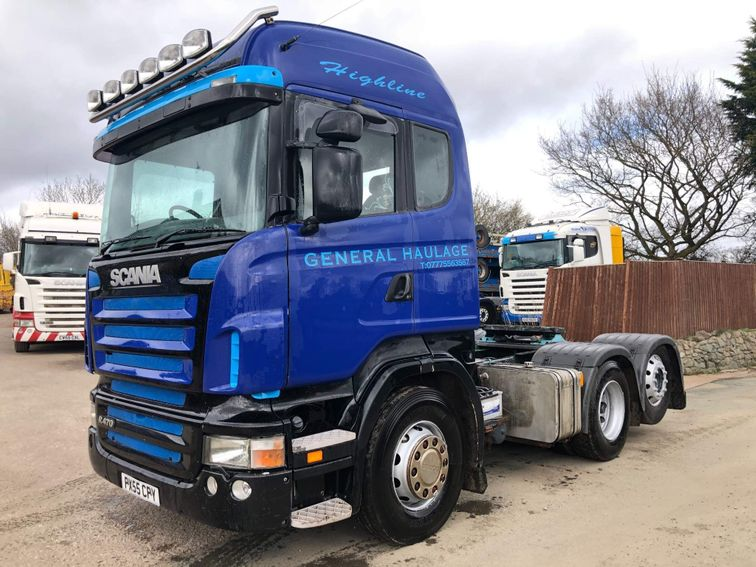Semi: (88, 4, 686, 545), (3, 198, 103, 351), (496, 218, 623, 324)
